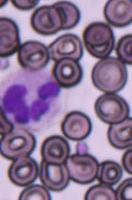N: (1, 68, 62, 132)
